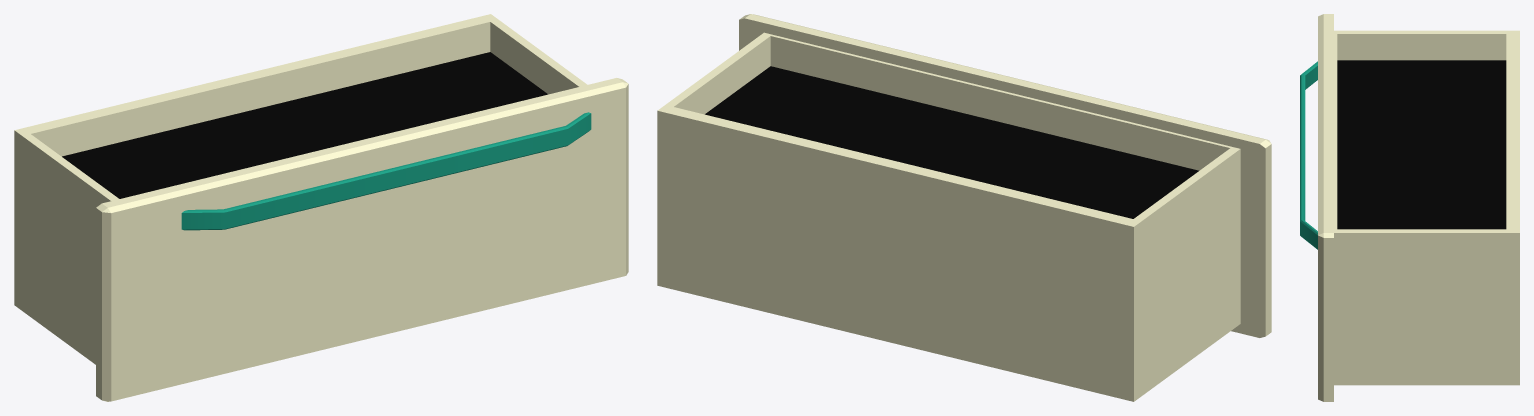
File: P_Oven_Drawer.FBX
3 renders of one model, left to right at view 1: azimuth 30°, elevation 25°; view 2: azimuth 150°, elevation 25°; view 3: azimuth 270°, elevation 25°, orthographic. The views are drawn at different scales.
Parts seen in each view (by area): view 1: Oven_Drawer; view 2: Oven_Drawer; view 3: Oven_Drawer.
Boxes of the visible parts, x1=… form: Oven_Drawer: x1=14, y1=14, x2=628, y2=401; Oven_Drawer: x1=657, y1=14, x2=1271, y2=401; Oven_Drawer: x1=1300, y1=14, x2=1519, y2=401.
Bounding box in the file's own units: 27.4 × 11.38 × 9.65.
